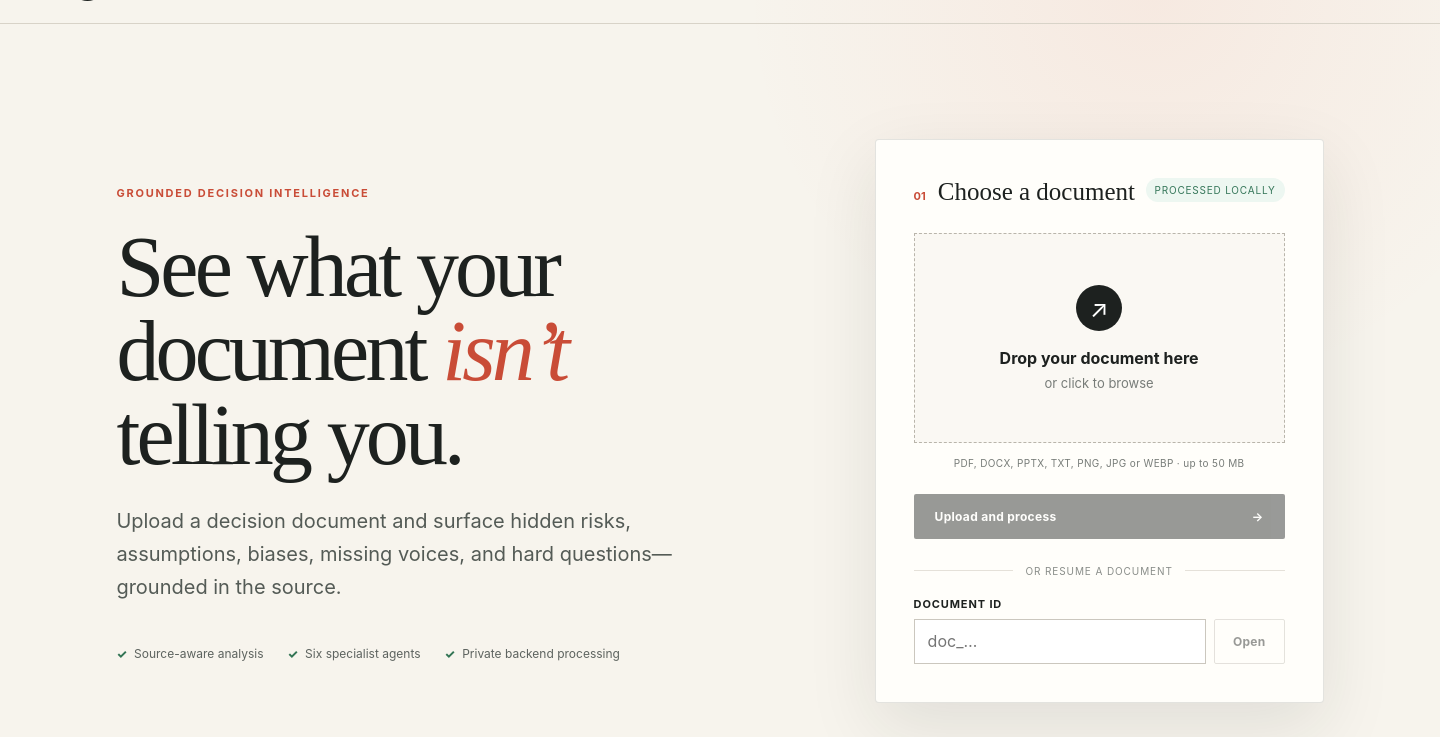
Test: Blind Spot AI workspace › shows explicit history, uploads a successor, and renders side-labeled comparison evidence
Type "doc_test-123" into the field labelled "Document ID" at (1060, 641), box [914,619,1206,664]
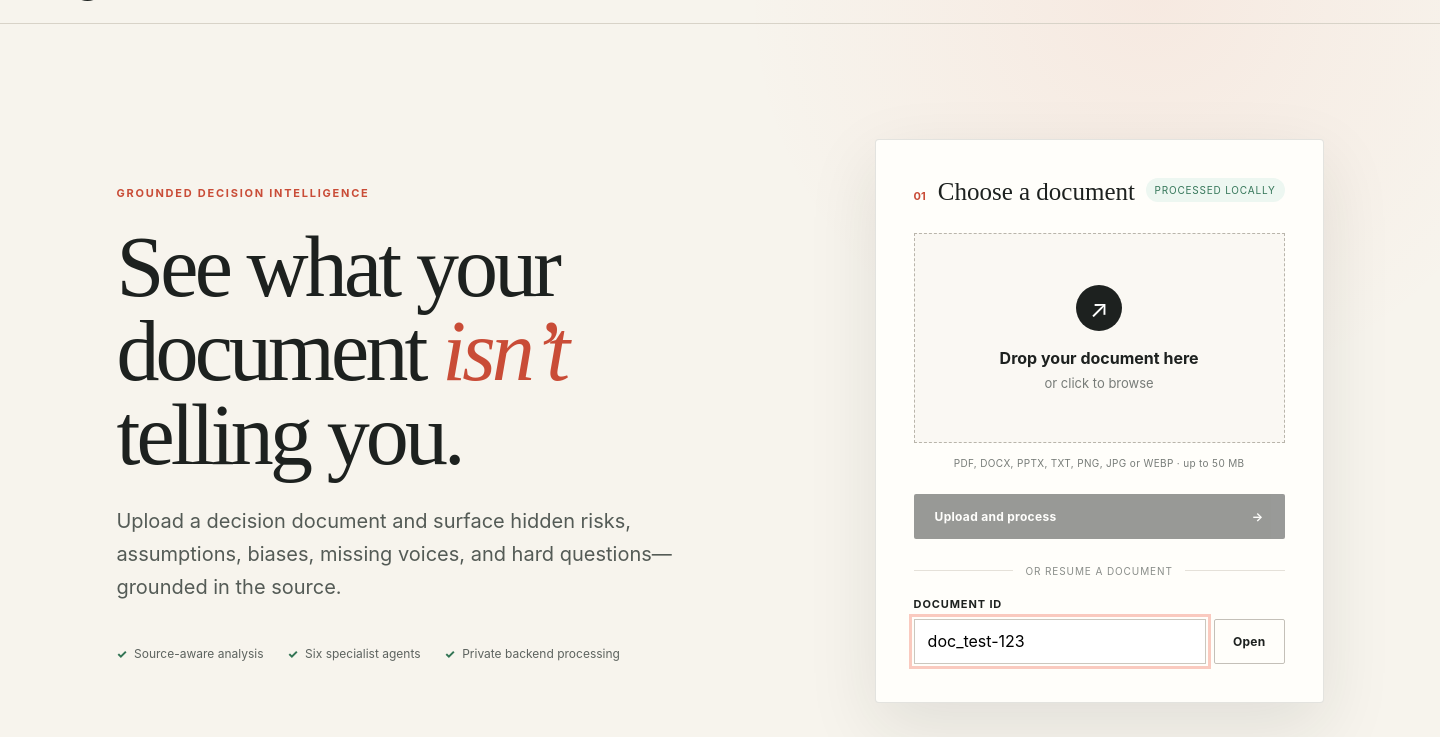
Click the button "Open" at (1249, 641), box [1214,619,1285,664]
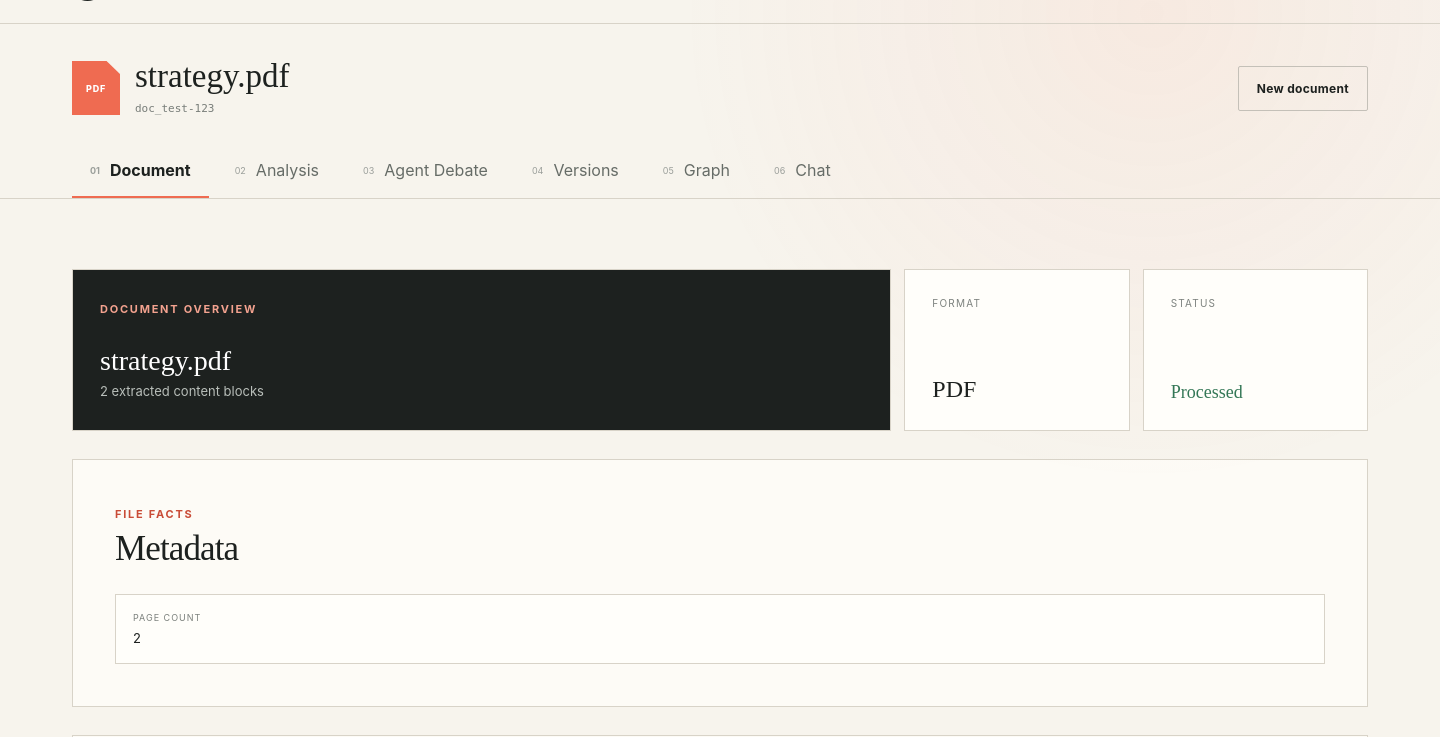
Click the button "04 versions" at (575, 171), box [514,144,637,198]
(page scrolled)
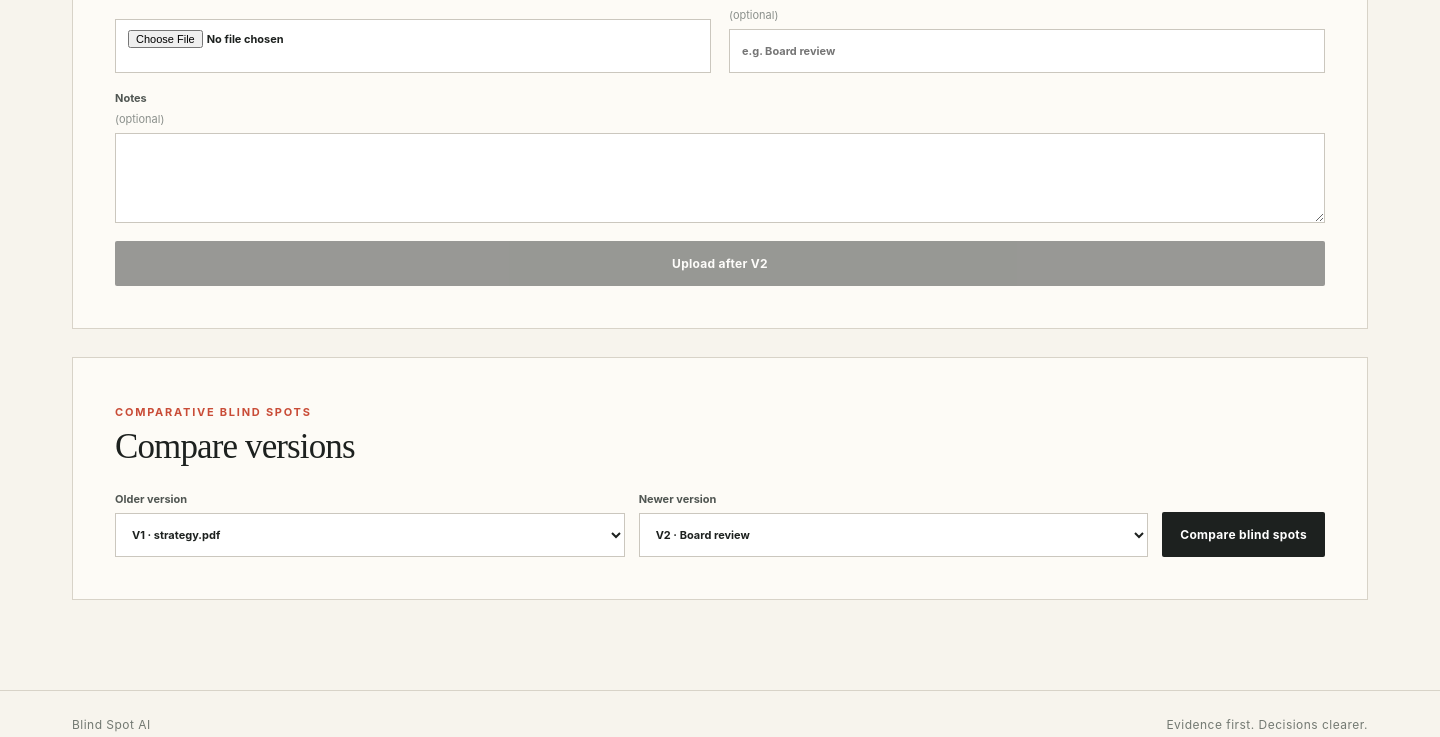
Click the button "Compare blind spots" at (1244, 534), box [1162,512,1325,557]
(page scrolled)
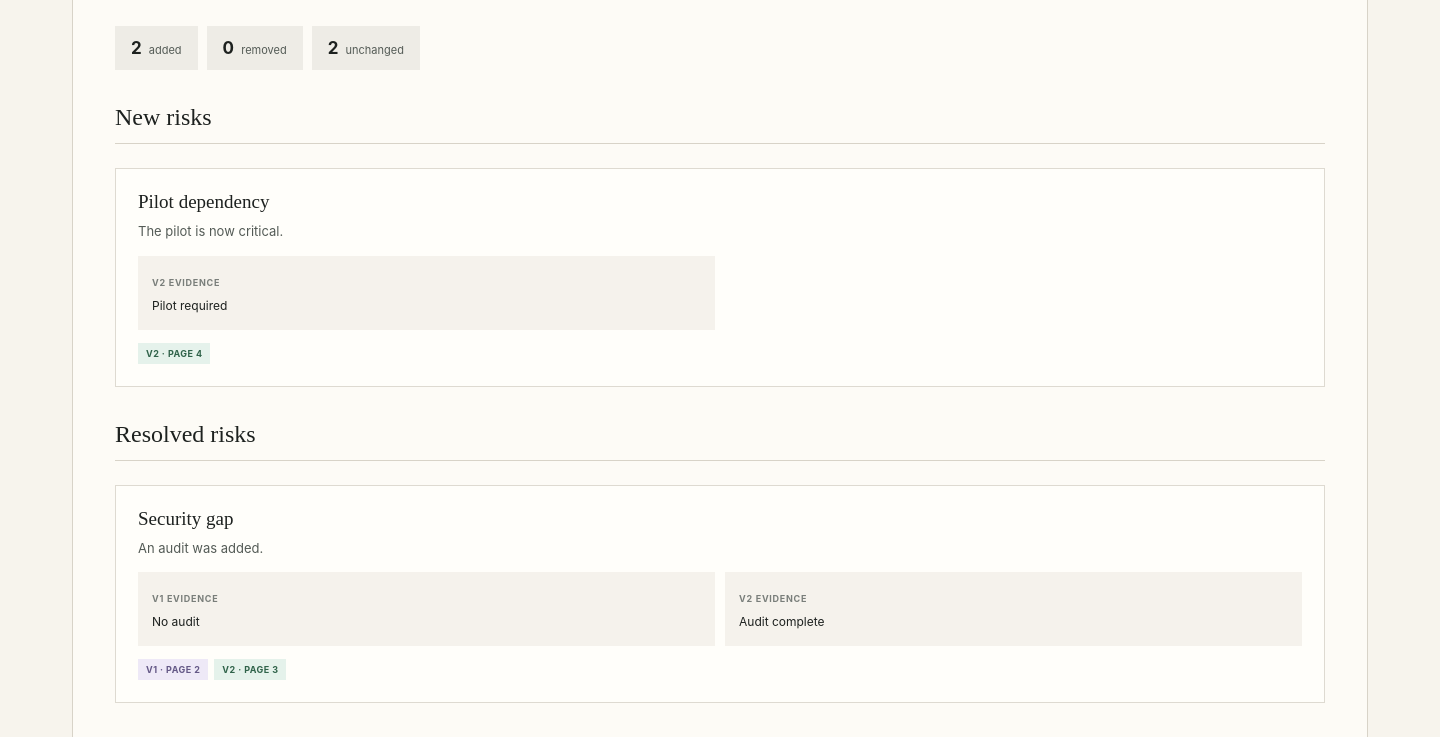
Result: the heading "Pilot dependency" is shown at [138,191,269,212]
Result: the heading "Security gap" is shown at [138,508,234,529]
Result: the text "V2 · Page 4" is shown at [138,343,210,364]
